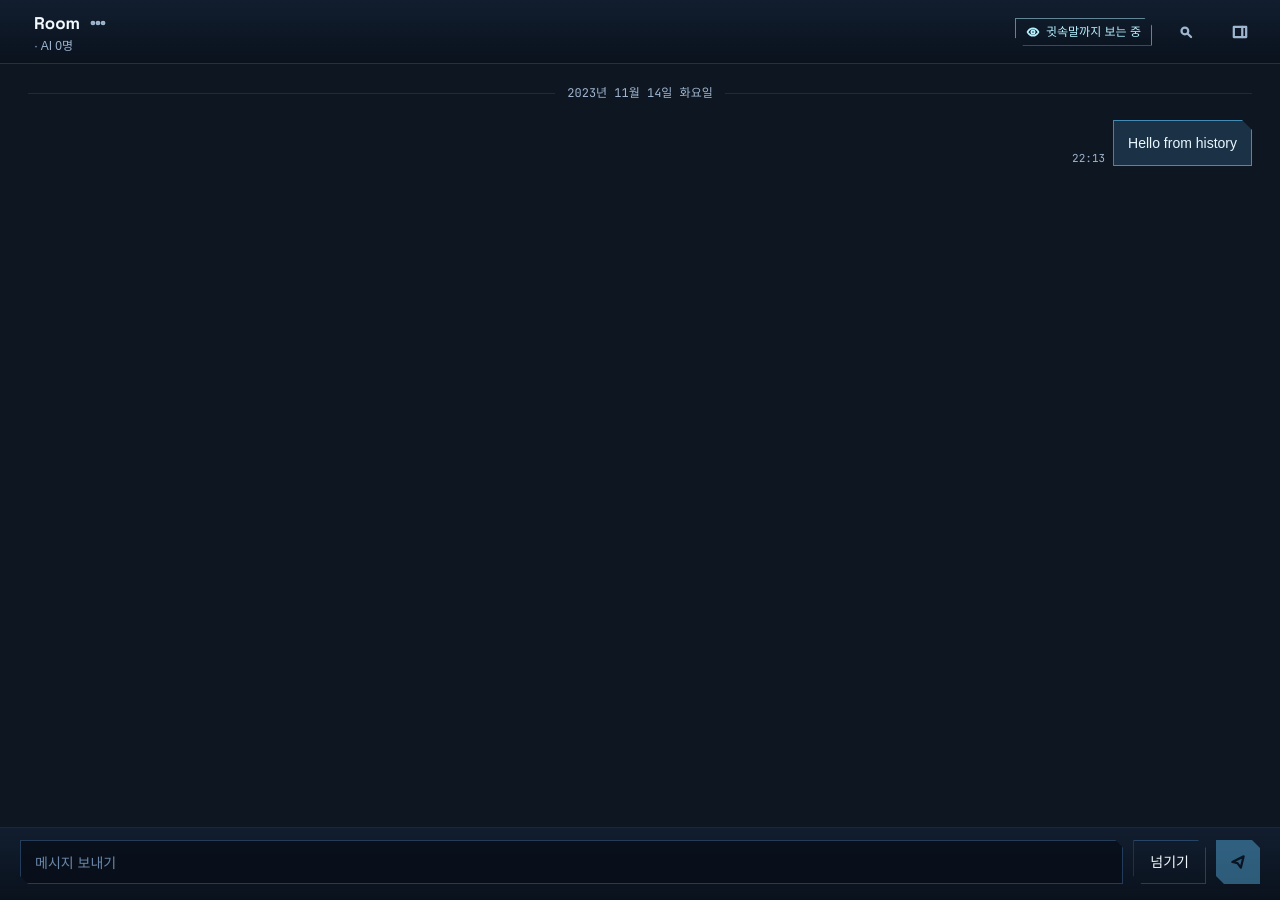
Test: chat thread › shows a manually posted room opinion in the card list without a message event
Click the button with test id "room-menu-open" at (98, 22), box [84,8,112,36]
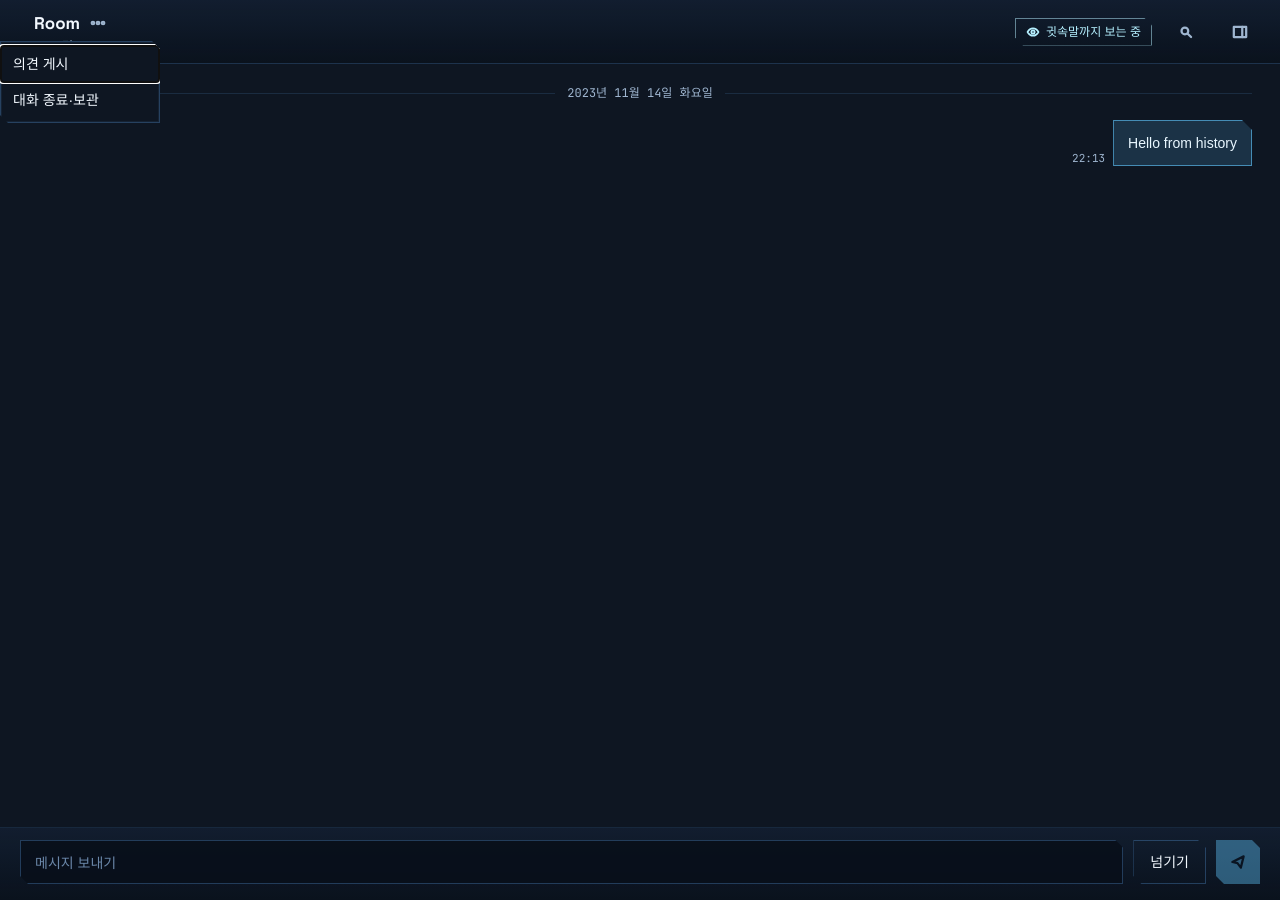
expect the menu with test id "room-menu" is shown: met, box [0,41,160,123]
Click the menu item with test id "chat-post-opinion" at (80, 64), box [1,46,159,82]
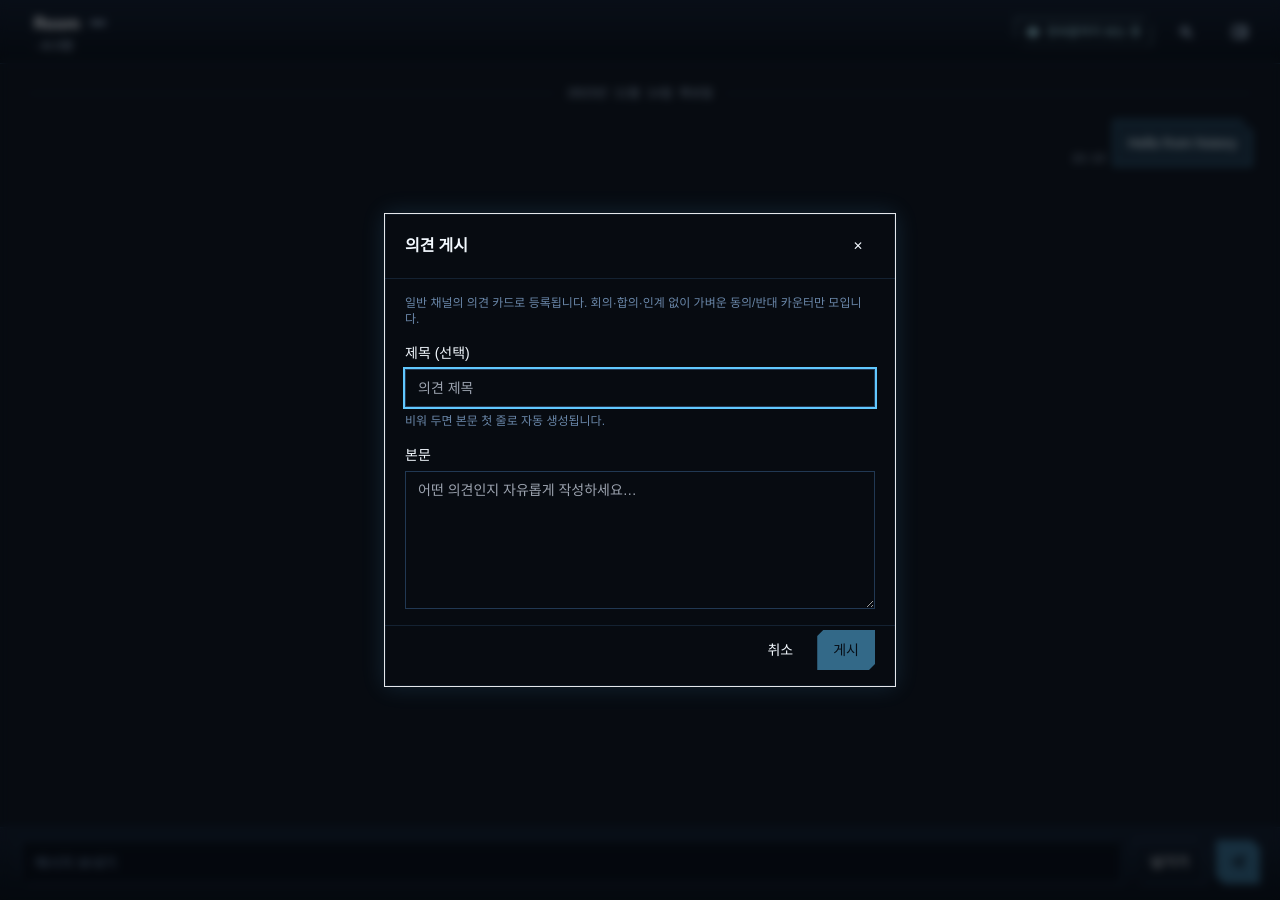
Type "Manual topic" into the field with test id "post-opinion-title" at (640, 388), box [405,369,875,407]
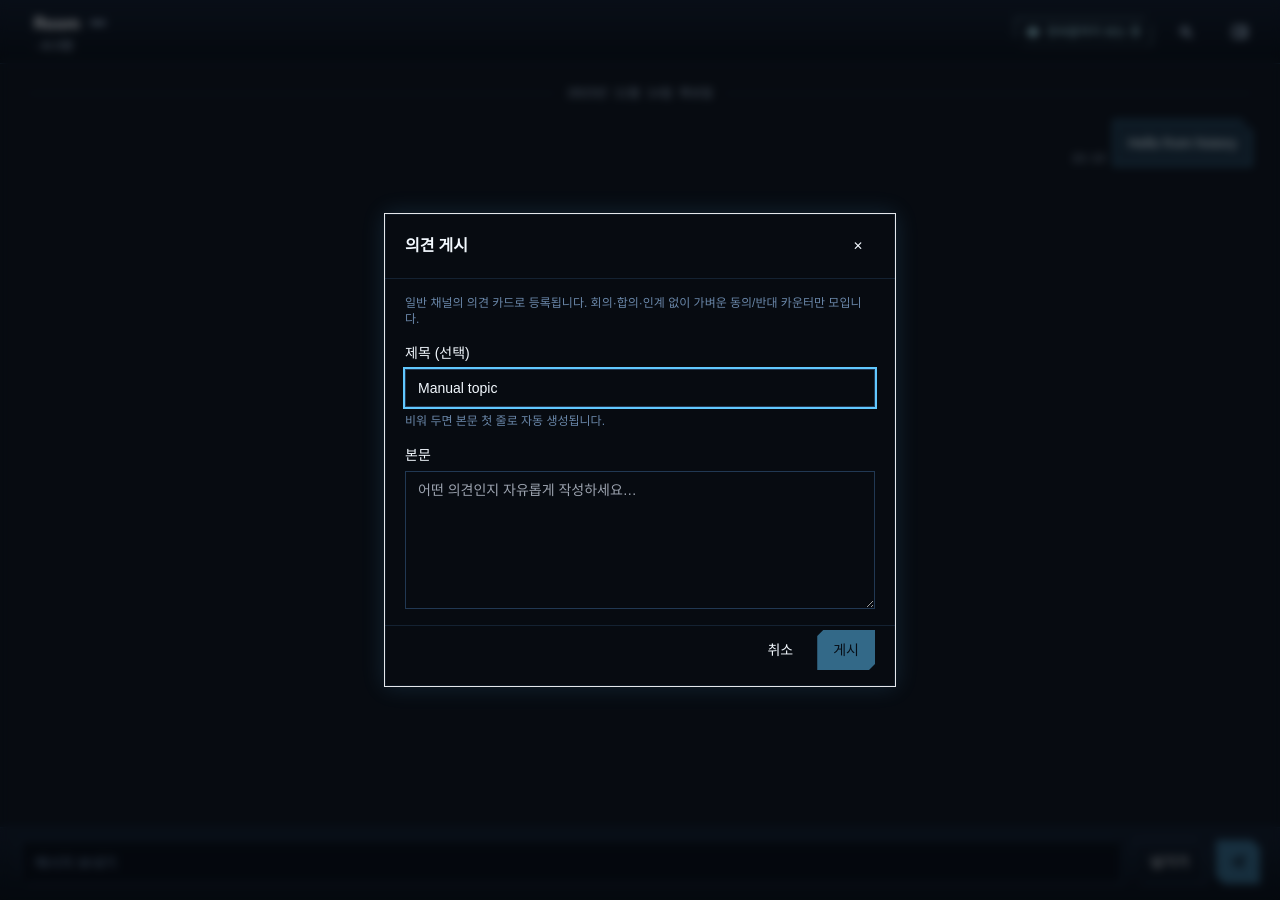
Type "Manual body" into the text box with test id "post-opinion-content" at (640, 540), box [405,471,875,609]
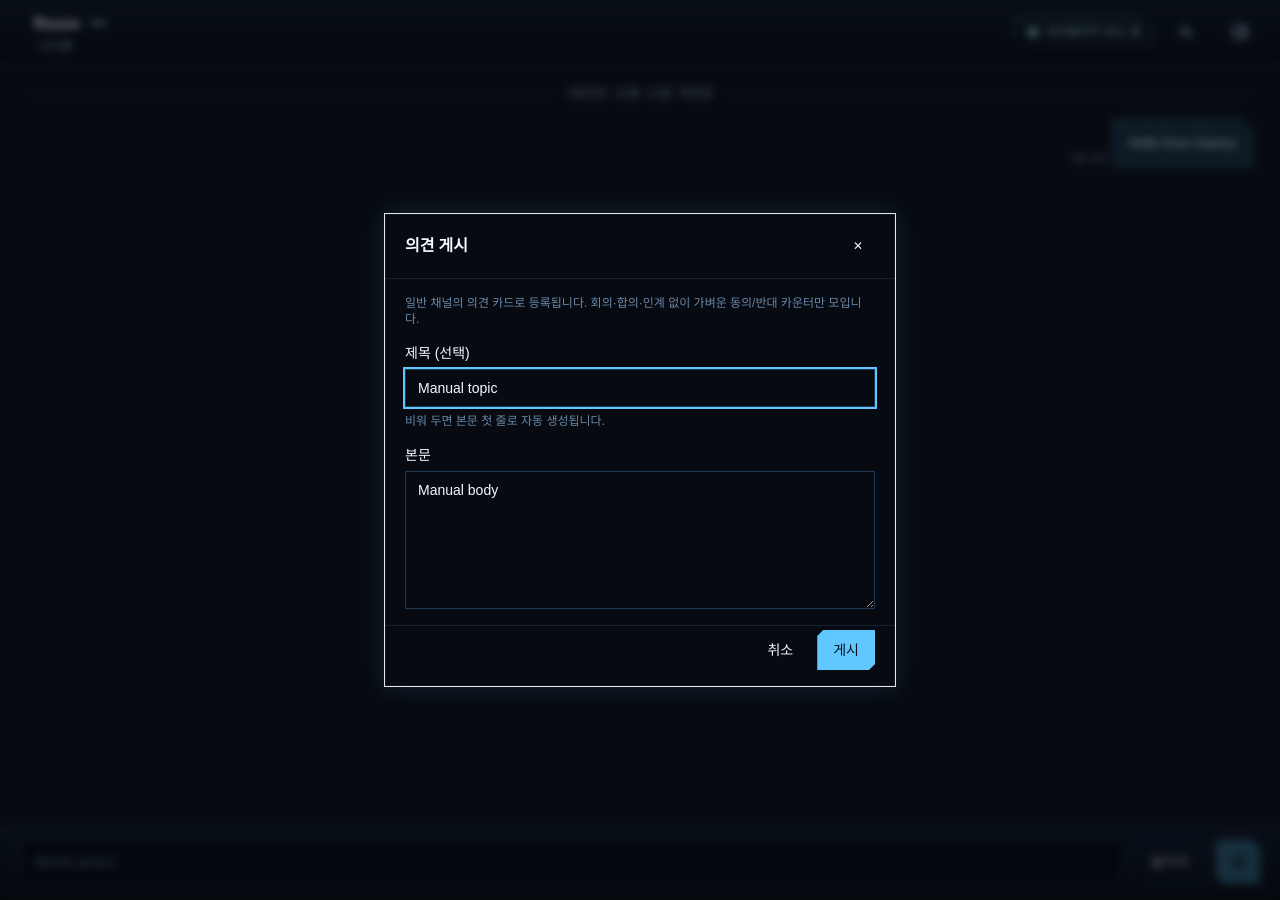
Click the button with test id "post-opinion-submit" at (846, 650), box [817,630,875,670]
(page scrolled)
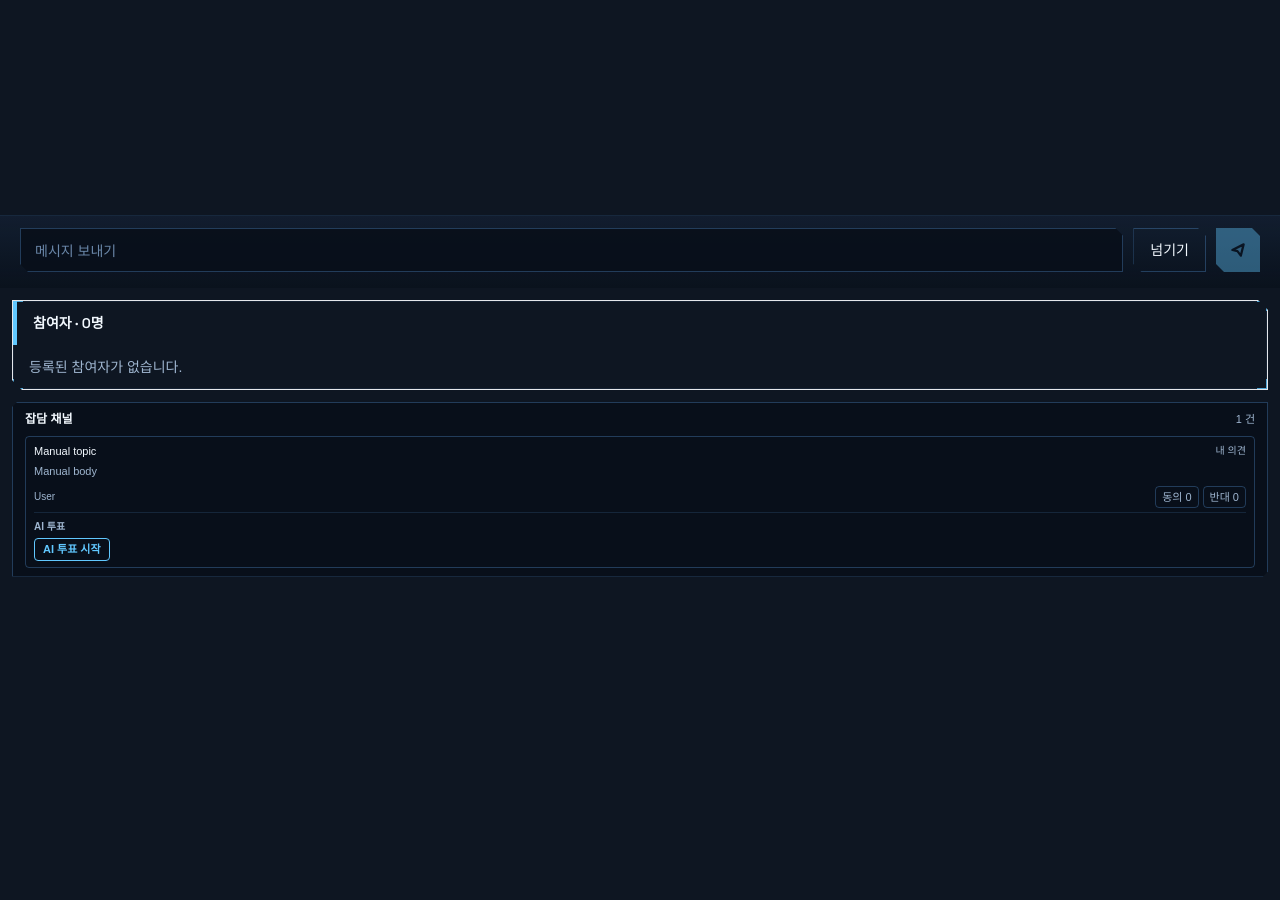
expect the text "Manual topic" is shown: met, box [34,442,96,459]
